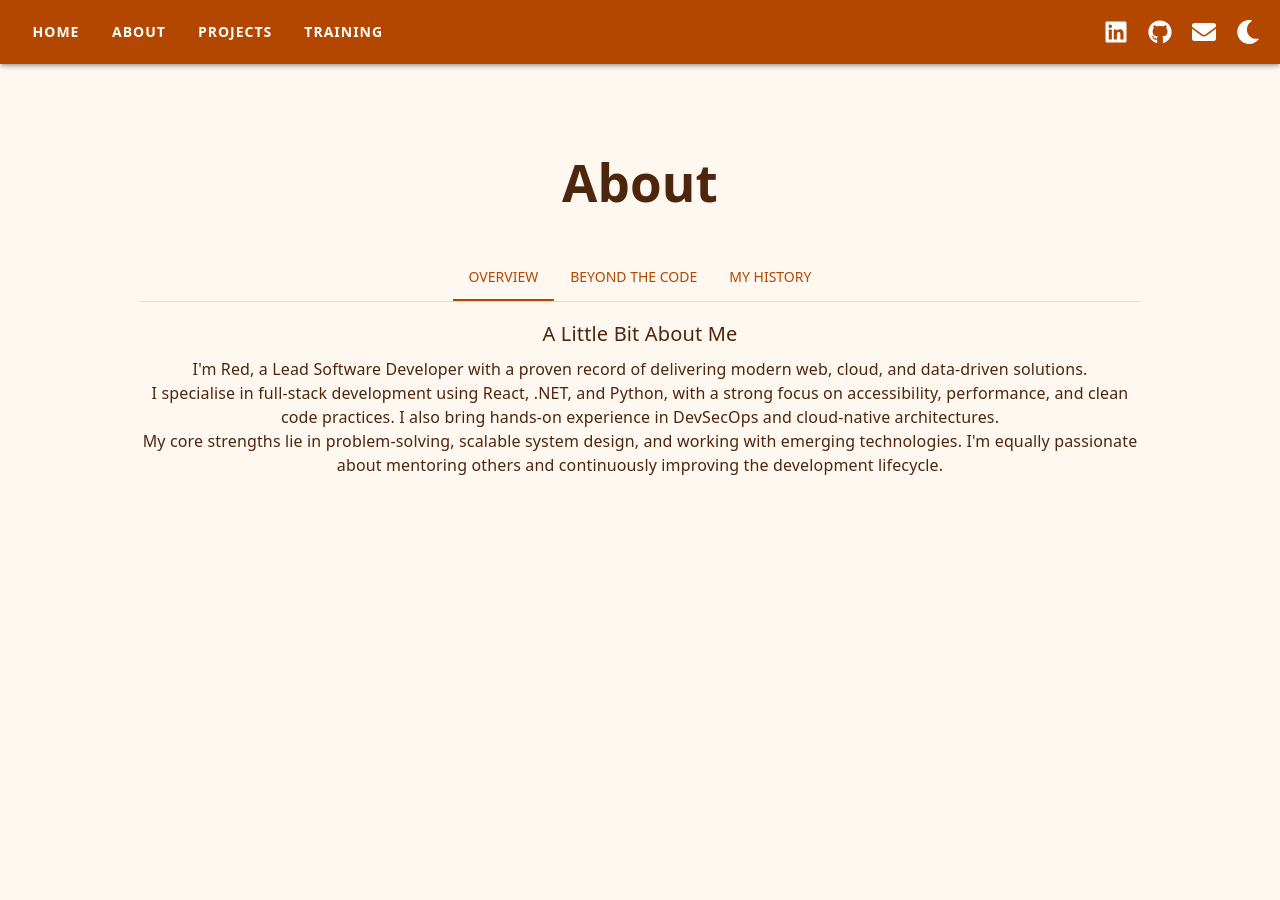
App Navbar and Navigation › theme toggle button is accessible and toggles twice
Click the button named "toggle dark mode": (1248, 32) 1228,12 -> 1268,52
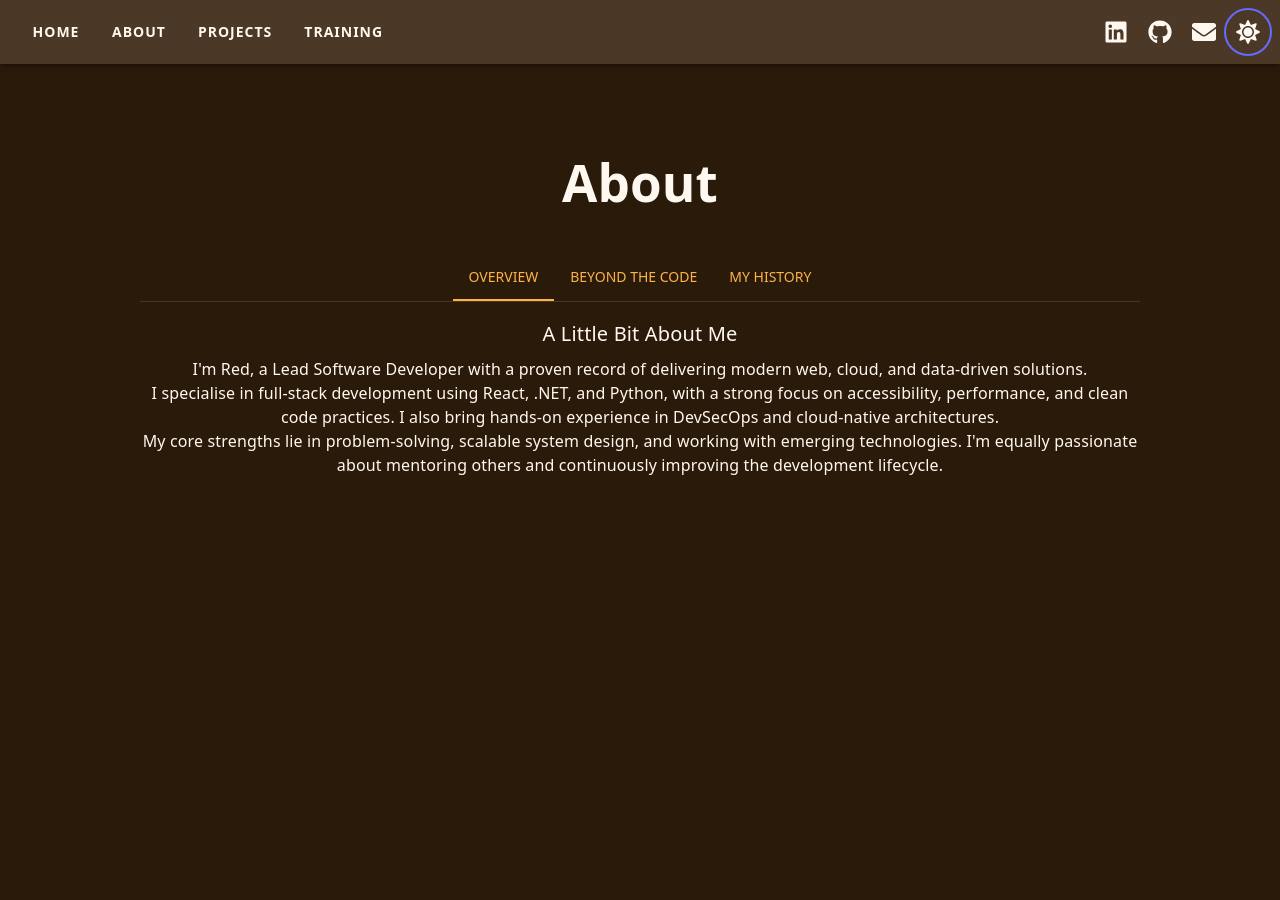
Click the button named "toggle dark mode": (1248, 32) 1228,12 -> 1268,52
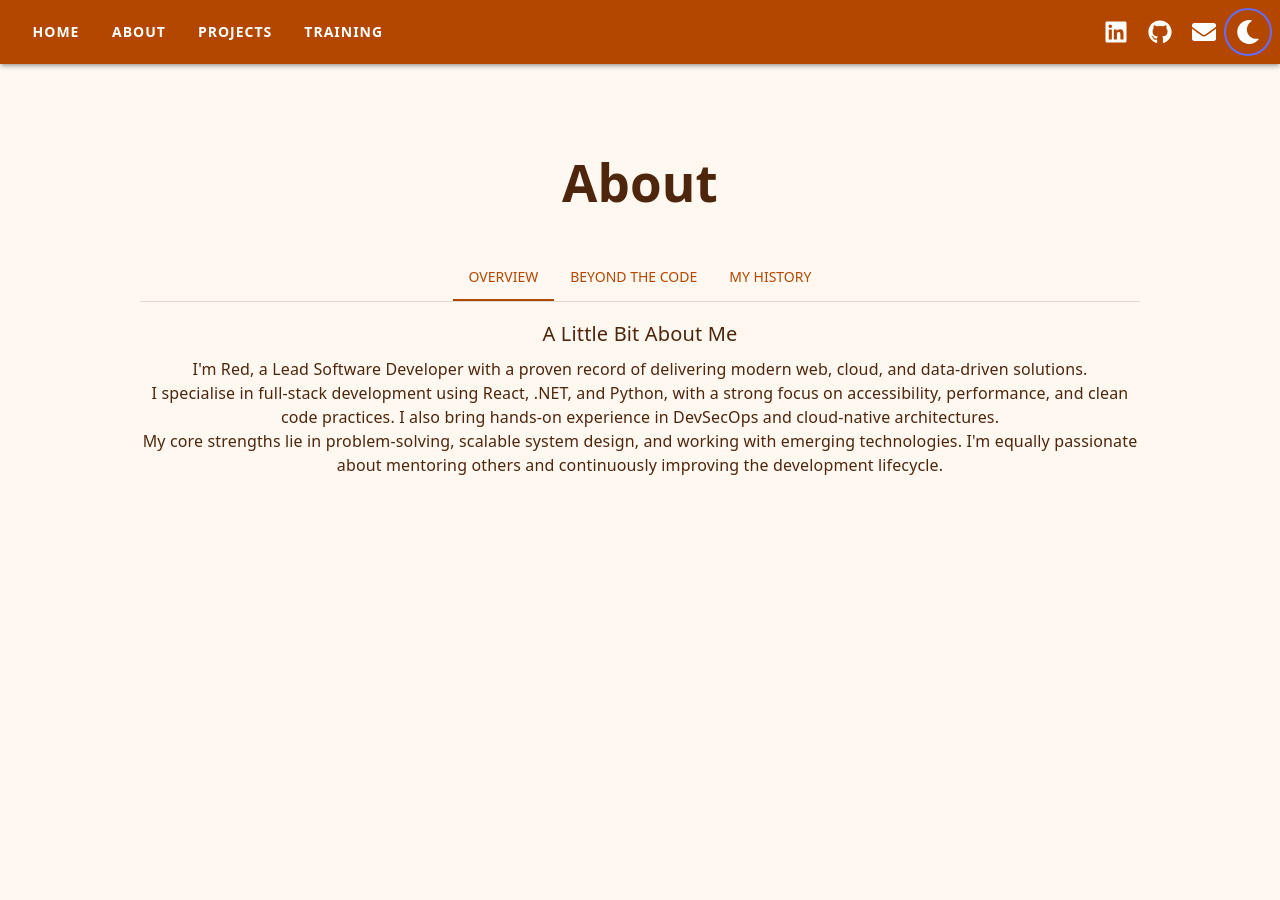
Result: the icon with test id "FaMoon" is shown at 1236,20 -> 1260,44
